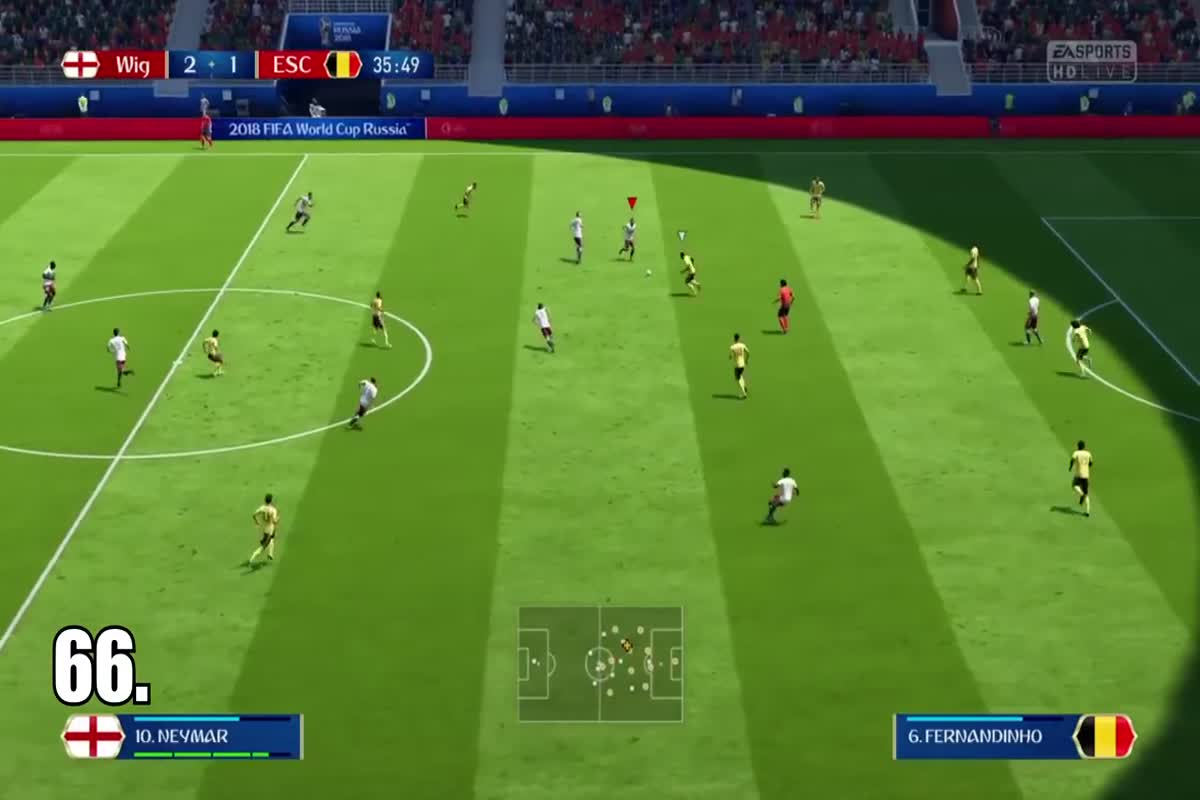ball: (640, 263, 663, 284)
